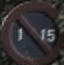No waiting: (5, 2, 57, 60)
